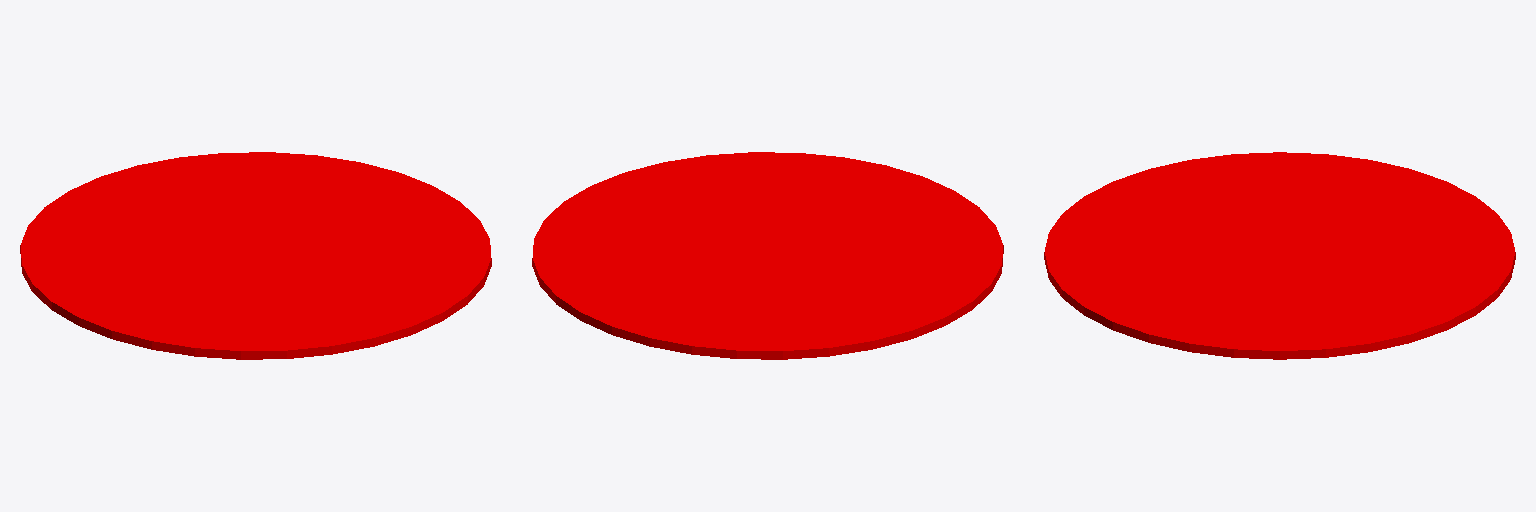
URDF robot description (circle):
<?xml version="1.0"?>
<!-- created with Phobos 1.0.1 "Capricious Choutengan" -->
  <robot name="circle">

    <link name="Untitled">
      <inertial>
        <origin xyz="0 0 0" rpy="0 0 0"/>
        <mass value="0.001"/>
        <inertia ixx="0.001" ixy="0" ixz="0" iyy="0.001" iyz="0" izz="0.001"/>
      </inertial>
      <visual name="Cylinder">
        <origin xyz="0 0 0" rpy="0 0 0"/>
        <geometry>
          <cylinder radius="0.25" length="0.01"/>
        </geometry>
        <material name="Material.003"/>
      </visual>
    </link>

    <material name="Material.003">
      <color rgba="1 0 0 1.0"/>
    </material>

  </robot>

--- Facts derived from the render (not from the file) ---
3 views of the same robot in one strip: view 1: azimuth 30°, elevation 25°; view 2: azimuth 150°, elevation 25°; view 3: azimuth 270°, elevation 25° (orthographic).
Robot: circle — 1 links, 0 joints (none); root link Untitled; default pose: all joints at 0.
Visible links, largest first — view 1: Untitled; view 2: Untitled; view 3: Untitled.
Link boxes in pixels (x1,y1,x2,y2): Untitled: (20, 152, 491, 359); Untitled: (532, 152, 1003, 359); Untitled: (1044, 152, 1515, 359).
Bounding box of the posed robot: 0.5 × 0.5 × 0.01 m (x, y, z).
Geometry: primitives only (box / cylinder / sphere), no mesh files.